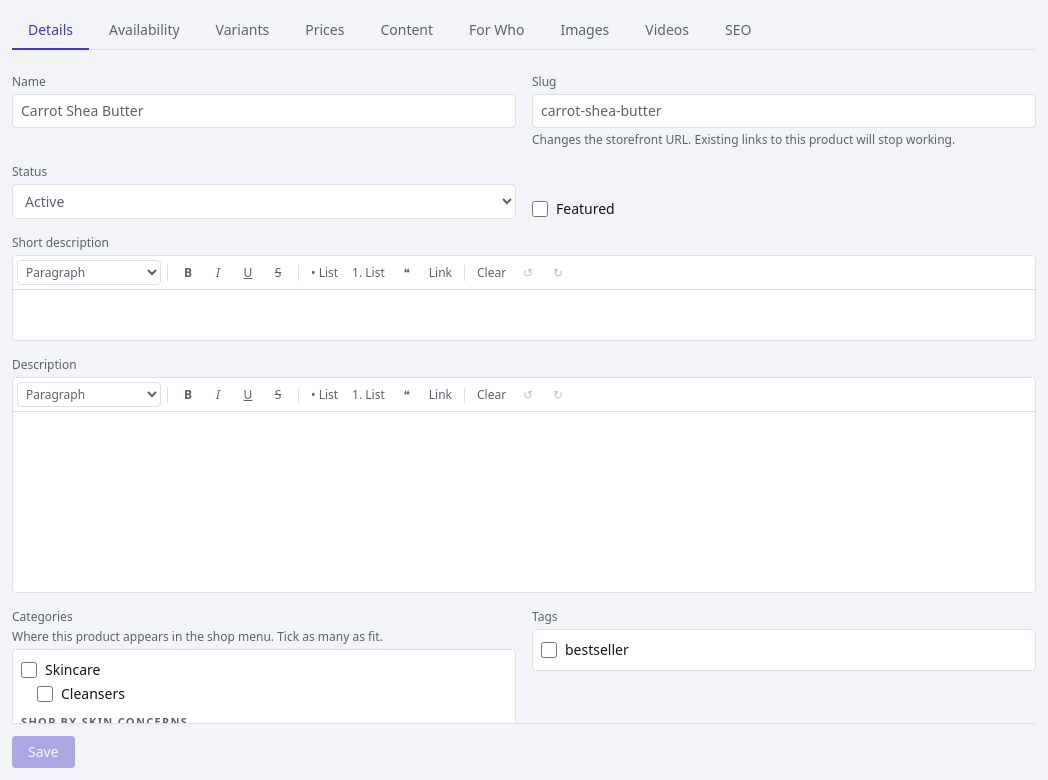
Scenario: ProductEditor › clears the unsaved bar after a successful save
The image size is (1048, 780).
Click the checkbox labelled "Featured" at (540, 209), box top-left (532, 201), bottom-right (548, 217)
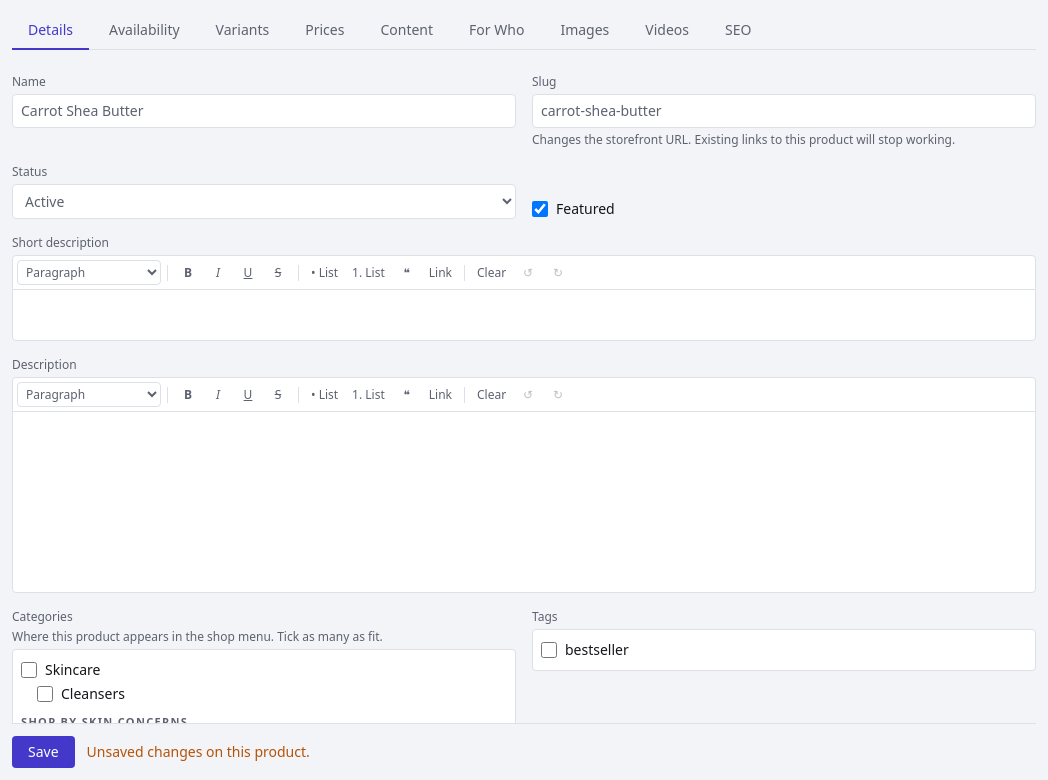
Click the button "Save" at (43, 752), box top-left (12, 736), bottom-right (75, 768)
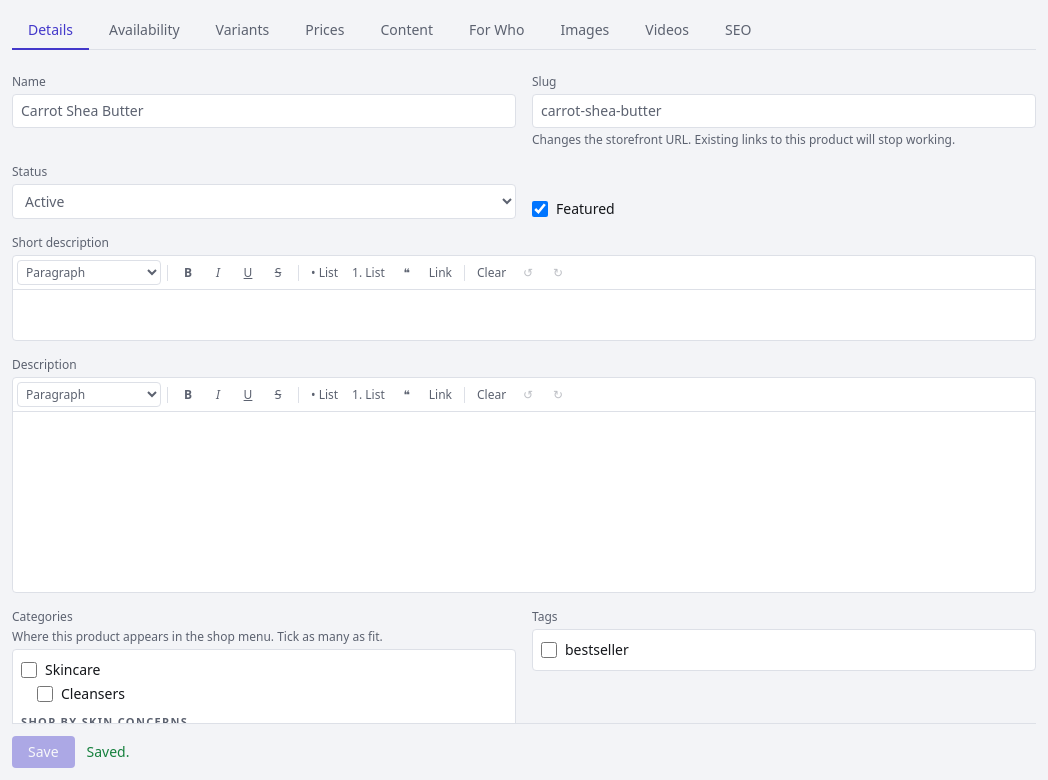
Expected: the message reads "Saved.", top-left (87, 742), bottom-right (130, 761)
Expected: the text "Unsaved changes" is gone
